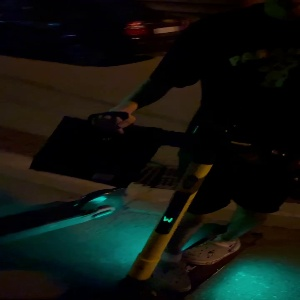human on a scooter: (30, 1, 300, 300)
